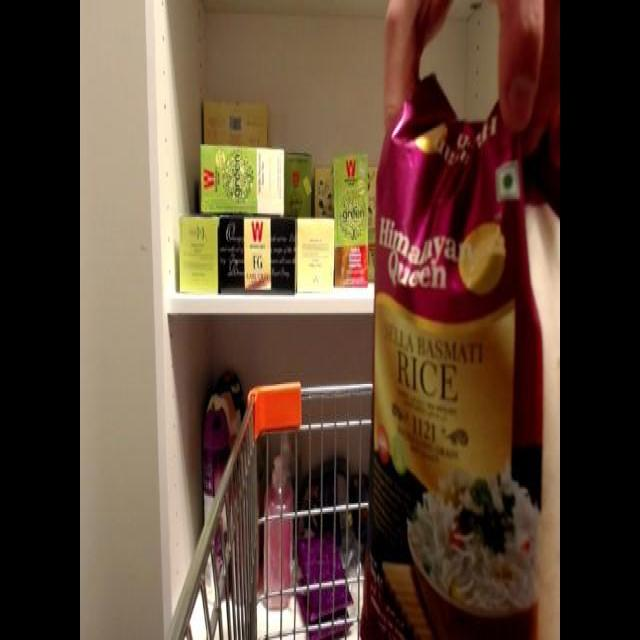Basmati Rice: (362, 75, 538, 636)
